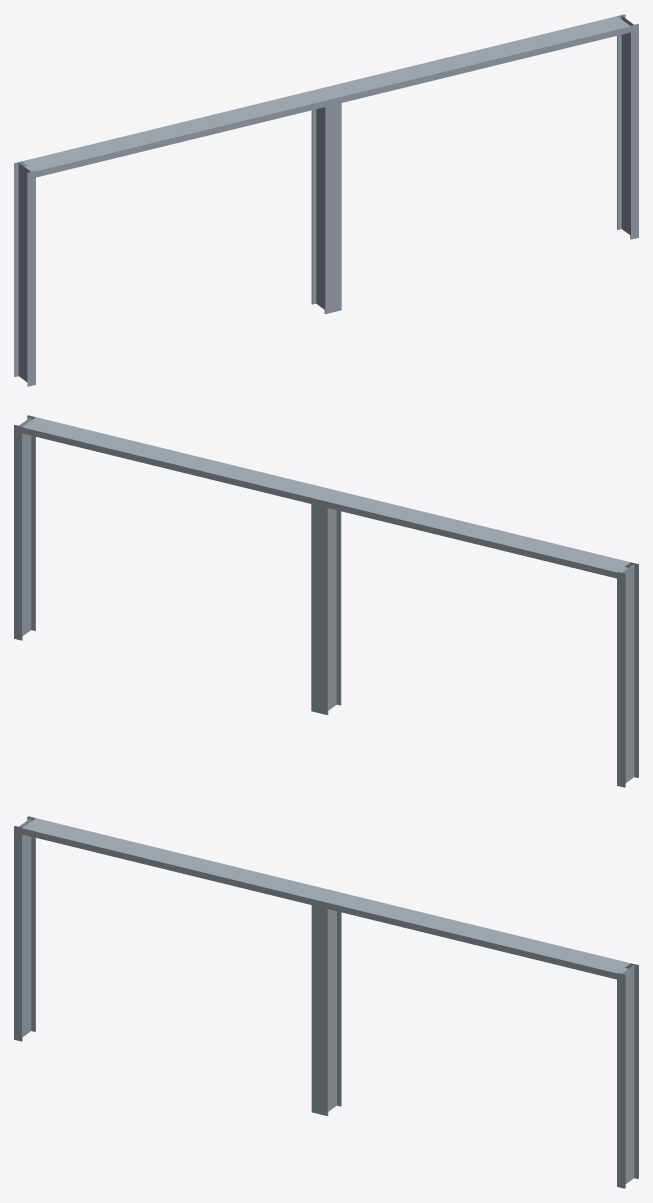
Rendered from SM06_Building_Structure_Wall_Mid_02_Default.fbx.
3 renders of one model, top to bottom at view 1: azimuth 30°, elevation 25°; view 2: azimuth 150°, elevation 25°; view 3: azimuth 330°, elevation 25°, orthographic.
Visible parts, largest first — view 1: SM06_Building_Structure_Wall_Mid_02_Default; view 2: SM06_Building_Structure_Wall_Mid_02_Default; view 3: SM06_Building_Structure_Wall_Mid_02_Default.
Boxes of the visible parts, left/top/right/bottom form: SM06_Building_Structure_Wall_Mid_02_Default: left=14, top=14, right=638, bottom=386; SM06_Building_Structure_Wall_Mid_02_Default: left=14, top=415, right=638, bottom=787; SM06_Building_Structure_Wall_Mid_02_Default: left=14, top=816, right=638, bottom=1188.
Size of the model in its own units: 15 by 5.01 by 0.59.
